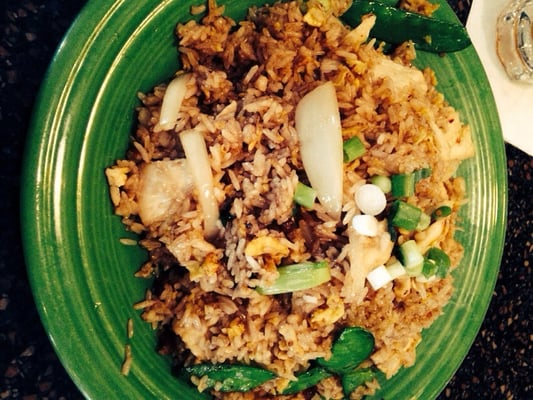sushi: (15, 1, 533, 398)
